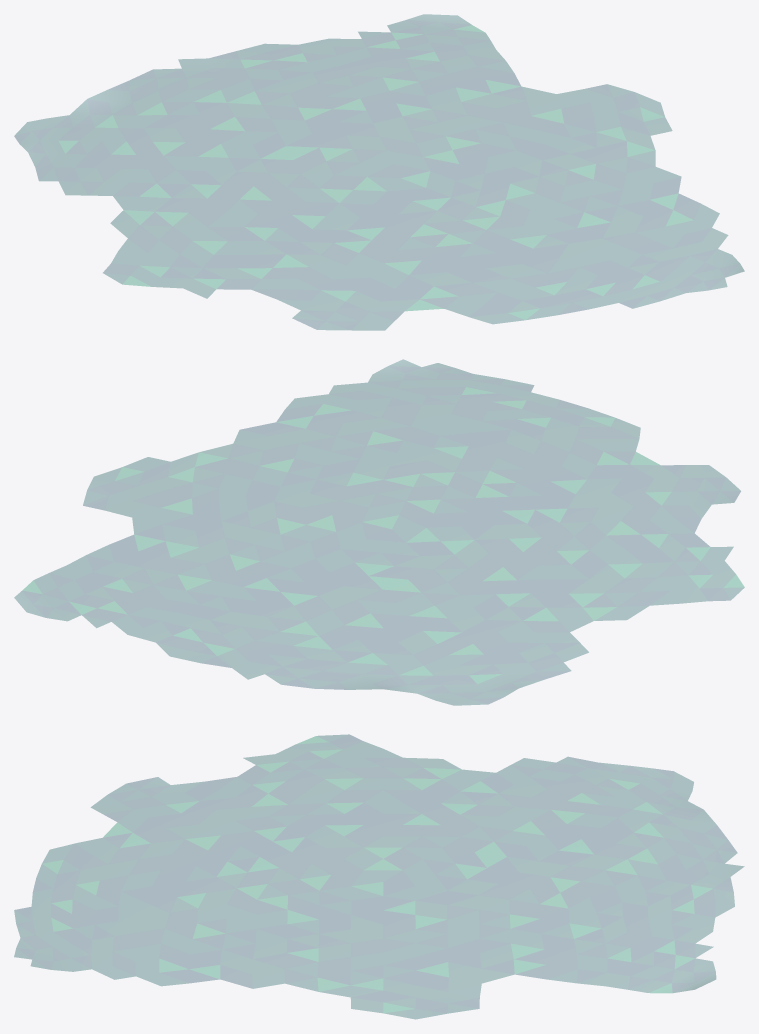
The model's file is Lake.FBX.
The picture shows the model from 3 angles, top to bottom: view 1: azimuth 30°, elevation 25°; view 2: azimuth 150°, elevation 25°; view 3: azimuth 270°, elevation 25°; orthographic projection. The views are drawn at different scales.
Visible parts, largest first — view 1: GeoSphere001; view 2: GeoSphere001; view 3: GeoSphere001.
Part boxes in pixels (left/top/right/bottom): GeoSphere001: left=14, top=14, right=744, bottom=330; GeoSphere001: left=14, top=359, right=744, bottom=705; GeoSphere001: left=14, top=734, right=744, bottom=1019.
Bounding box in the file's own units: 198 × 2.63 × 213.
